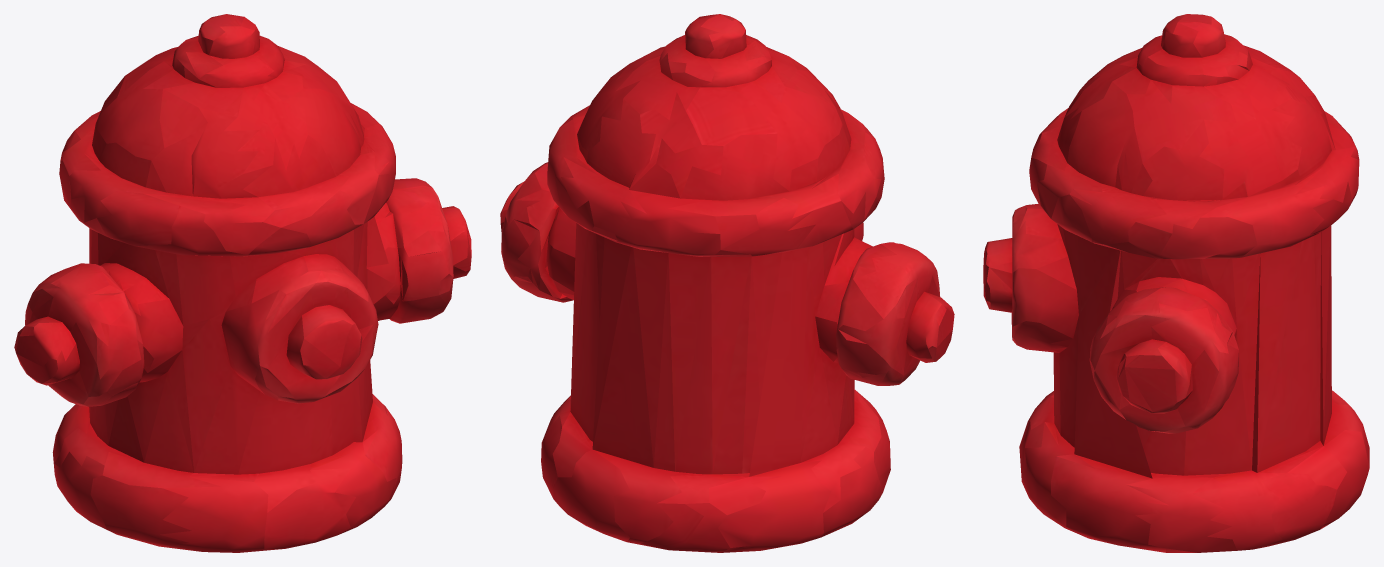
Rendered from by-brandhane.glb.
3 views of the same model, side by side, from view 1: azimuth 30°, elevation 25°; view 2: azimuth 150°, elevation 25°; view 3: azimuth 270°, elevation 25° (orthographic).
Bounding box in the file's own units: 1.87 × 1.9 × 1.43.
Materials: 1 (1 with a texture image).
